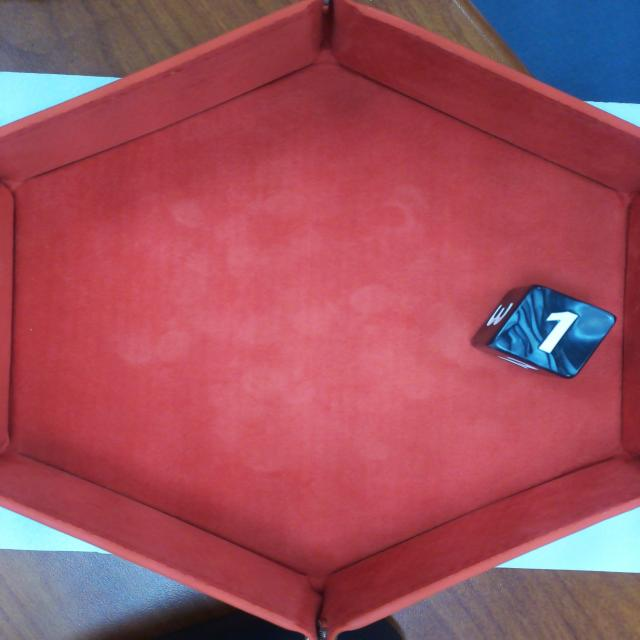dice: (490, 283, 623, 383)
